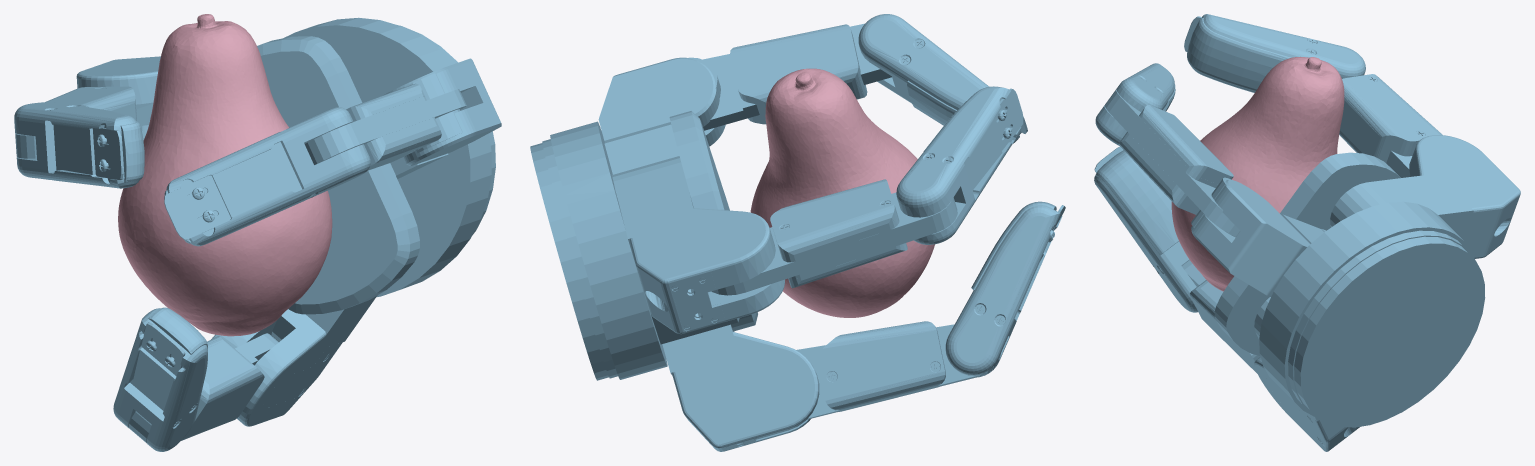
The picture shows the model from 3 angles, left to right: view 1: azimuth 30°, elevation 25°; view 2: azimuth 150°, elevation 25°; view 3: azimuth 270°, elevation 25°; orthographic projection. The views are drawn at different scales.
Parts seen in each view (by area): view 1: world, pear.stl; view 2: world, pear.stl; view 3: world, pear.stl.
Part boxes in pixels (box(x1,y1,x2,y2)): world: box(14, 17, 501, 451); pear.stl: box(118, 14, 332, 336); world: box(530, 14, 1065, 451); pear.stl: box(750, 68, 934, 317); world: box(1094, 14, 1520, 451); pear.stl: box(1171, 56, 1344, 291).
Bounding box in the file's own units: 0.1707 × 0.1506 × 0.1621.
